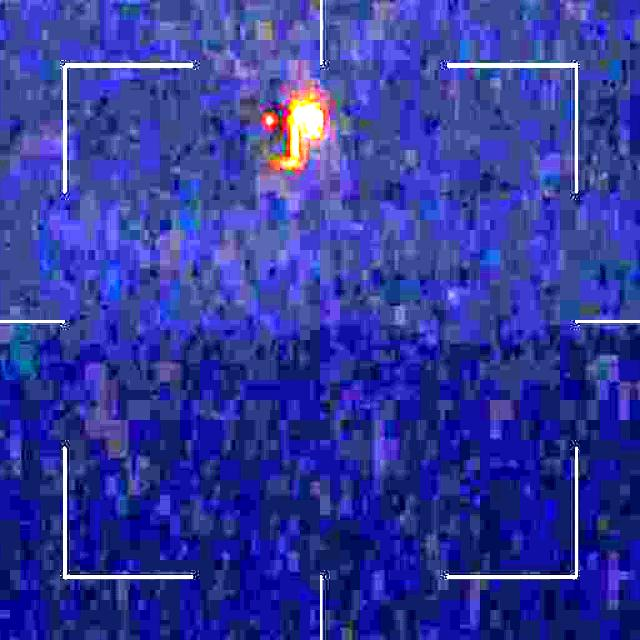bird: (252, 98, 322, 162)
